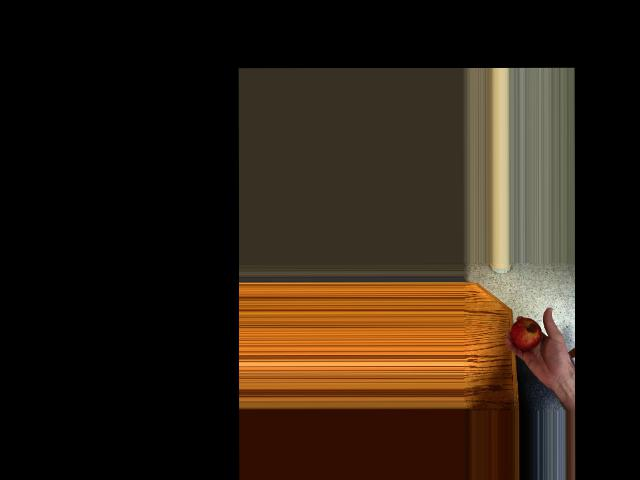apple: (510, 317, 544, 353)
